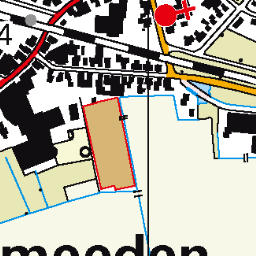church: (151, 1, 198, 30)
